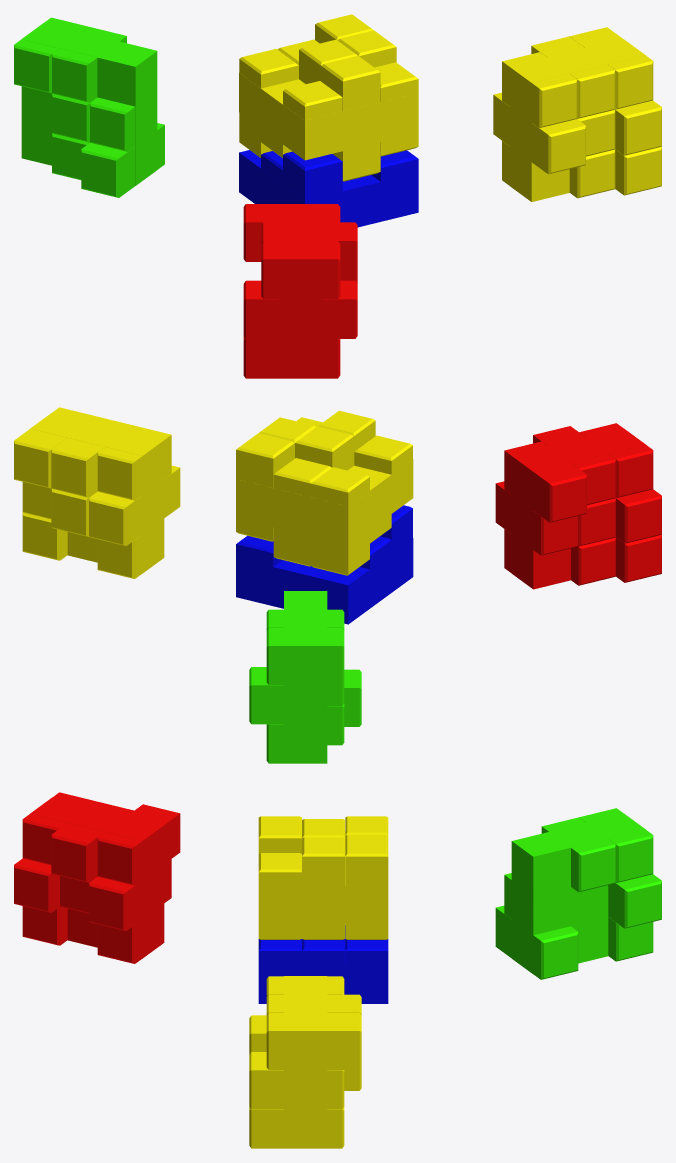
The model's file is stage_2.obj.
3 views of the same model, one above another, from view 1: azimuth 30°, elevation 25°; view 2: azimuth 150°, elevation 25°; view 3: azimuth 270°, elevation 25° (orthographic).
Visible parts, largest first — view 1: object_3, object_5, object_2, object_1, object_4; view 2: object_1, object_5, object_3, object_2, object_4; view 3: object_1, object_2, object_3, object_5, object_4.
Part boxes in pixels (x1=…): object_3: x1=493, y1=27, x2=661, y2=201; object_5: x1=239, y1=14, x2=418, y2=181; object_2: x1=14, y1=17, x2=164, y2=197; object_1: x1=243, y1=204, x2=357, y2=378; object_4: x1=239, y1=150, x2=418, y2=227; object_1: x1=495, y1=423, x2=661, y2=589; object_5: x1=236, y1=410, x2=413, y2=575; object_3: x1=14, y1=407, x2=180, y2=578; object_2: x1=249, y1=591, x2=361, y2=763; object_4: x1=236, y1=505, x2=413, y2=624; object_1: x1=14, y1=792, x2=180, y2=963; object_2: x1=495, y1=808, x2=661, y2=979; object_3: x1=249, y1=976, x2=361, y2=1148; object_5: x1=258, y1=816, x2=388, y2=939; object_4: x1=258, y1=925, x2=388, y2=1003.
Bounding box in the file's own units: 67.1 × 22.78 × 74.87.
